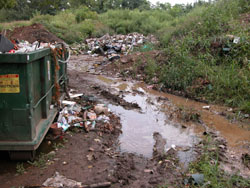trash: (54, 82, 110, 131), (76, 29, 156, 60), (11, 38, 54, 54)
water: (100, 74, 250, 174)
